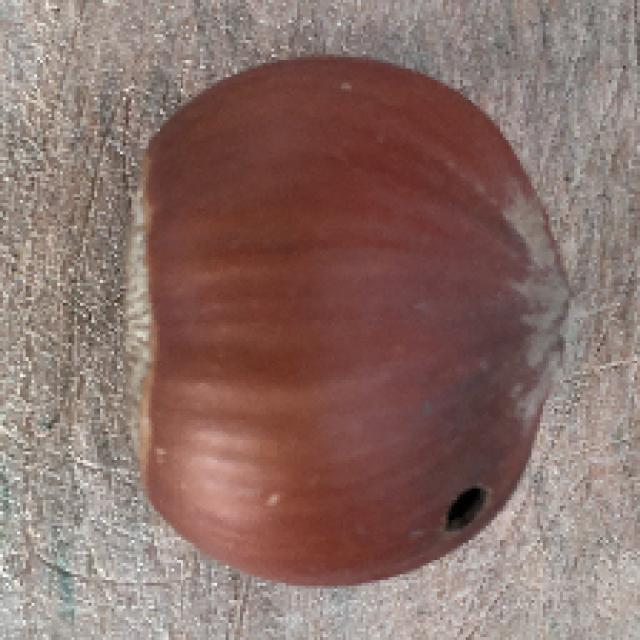DamagedHazelnut: (121, 58, 582, 589)
